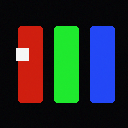1 square: (16, 48, 28, 60)
